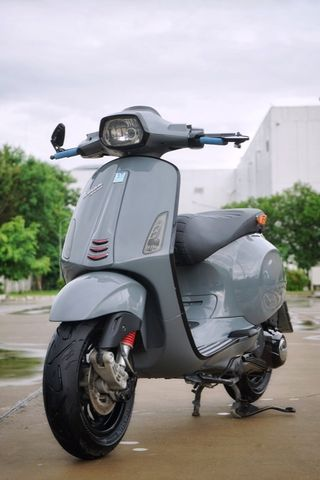motorcycle: (41, 106, 298, 461)
